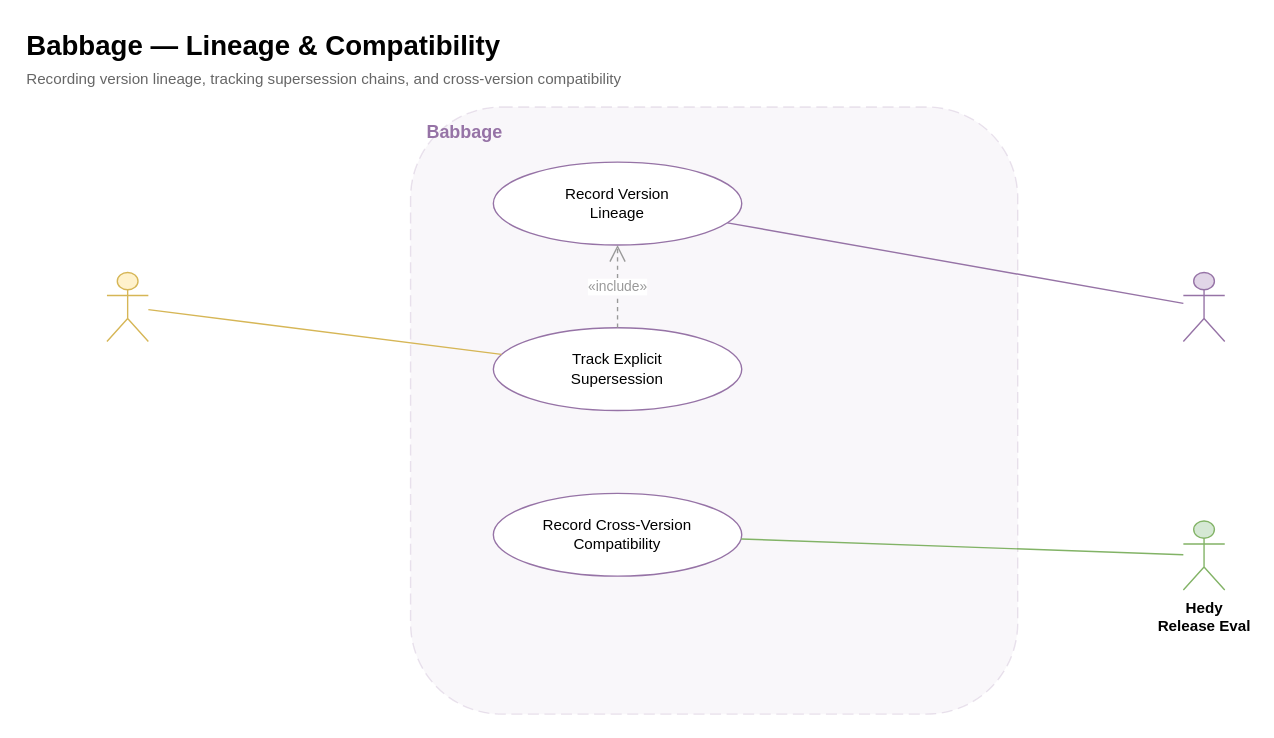
Some shapes in this 1274 by 738 pixel diagram are drawn without their labels. The shapes that lost their labels are listed below. From the top down, each one's centre as x and y in pixels, then its label:
the point at 127,306: Engineer
the point at 1203,306: Linnaeus Traceability
